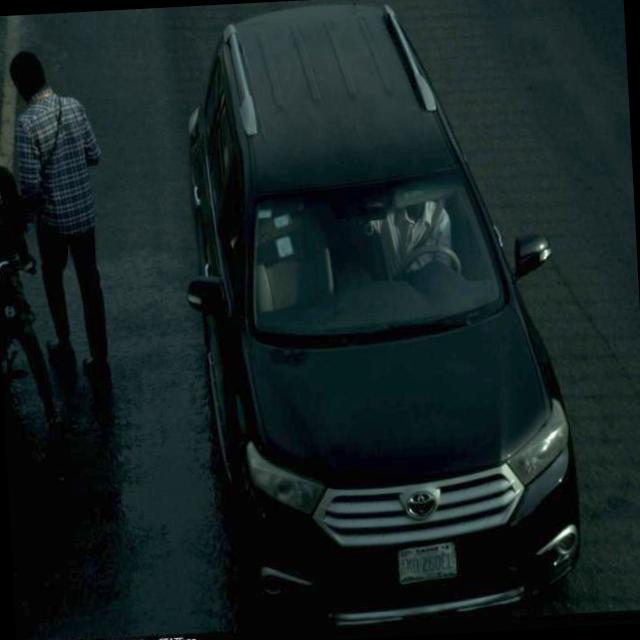person_with_seatbelt: (369, 177, 476, 310)
